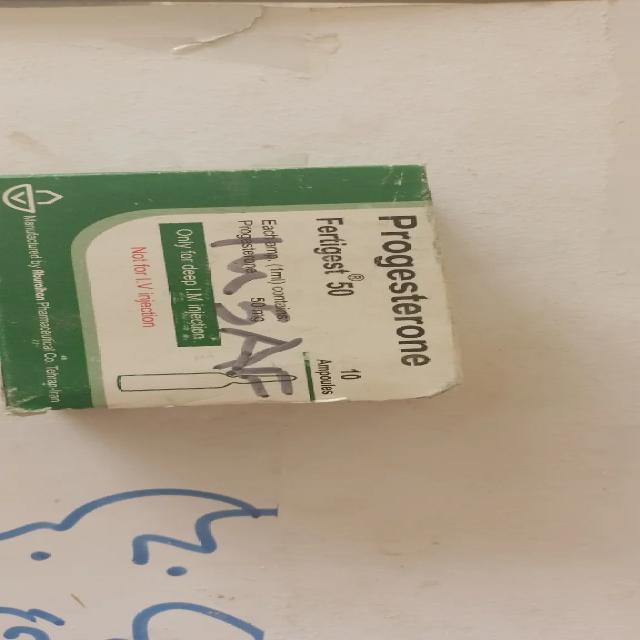drug-name: (307, 216, 358, 305)
